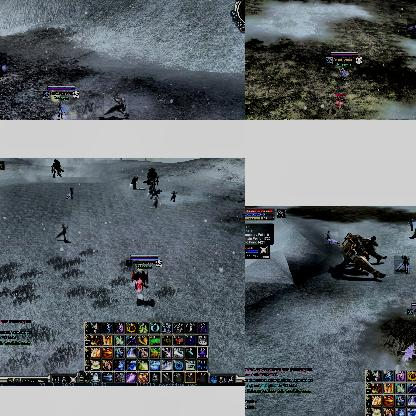caliana: (104, 94, 128, 120), (394, 256, 410, 274), (55, 224, 67, 240), (0, 53, 7, 77), (324, 232, 338, 244), (407, 18, 416, 32), (64, 187, 74, 199), (407, 218, 415, 230), (170, 190, 177, 202), (152, 198, 158, 208)
